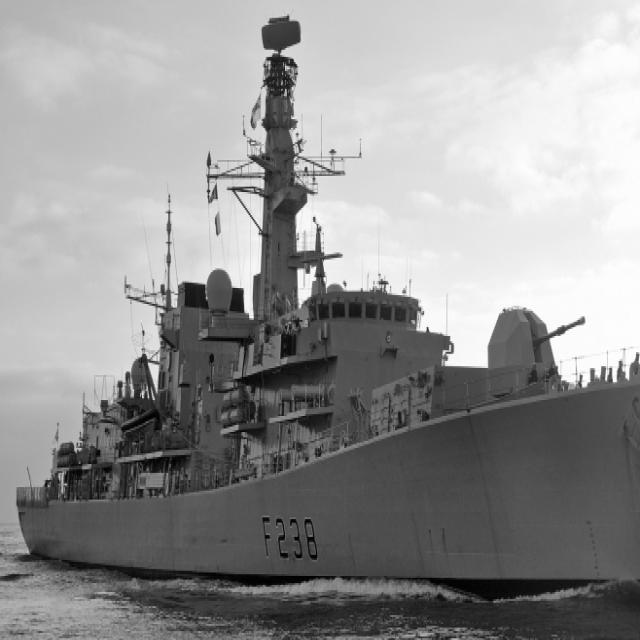Fragata: (10, 1, 640, 623)
